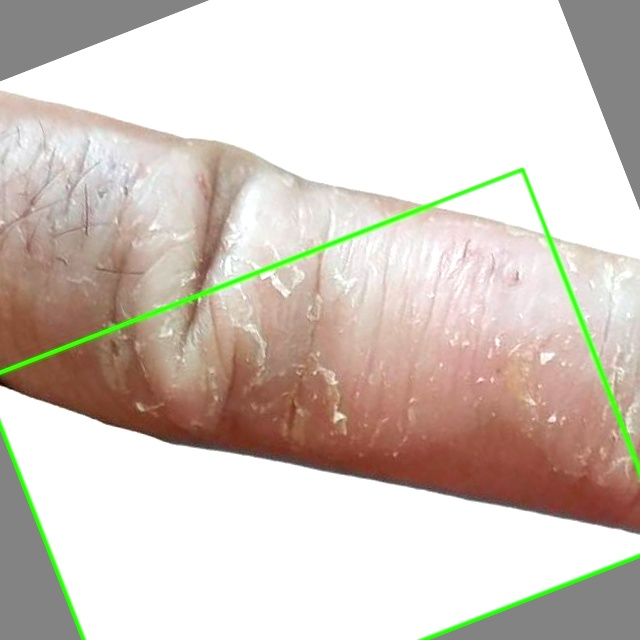Eczema: (0, 169, 639, 639)
